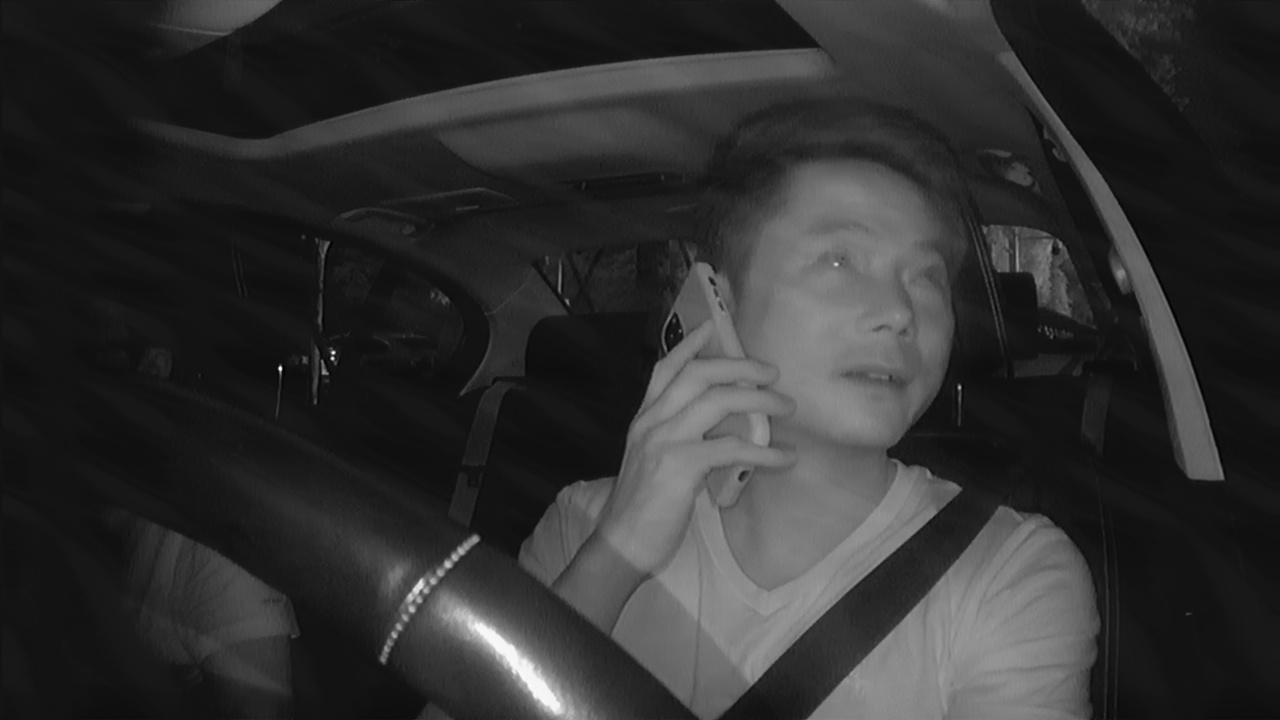hand: (611, 314, 784, 549)
